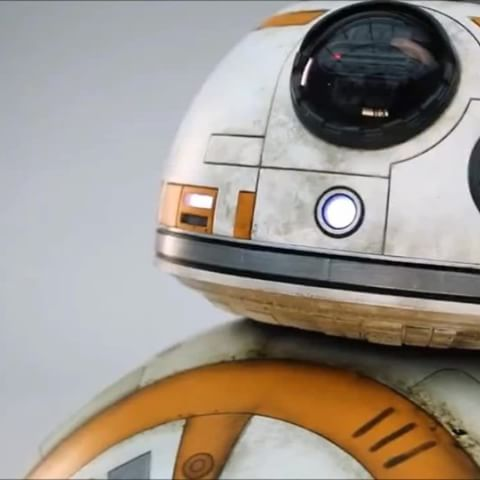bb8: (18, 1, 480, 479)
